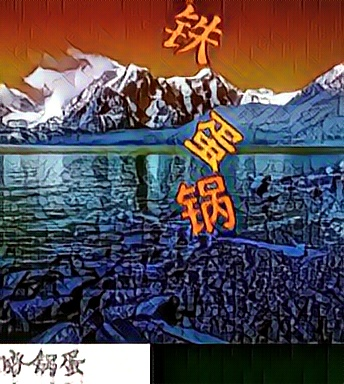B5B0: (182, 109, 244, 173)
B9F8: (175, 174, 237, 238)
CCFA: (162, 4, 224, 68)
